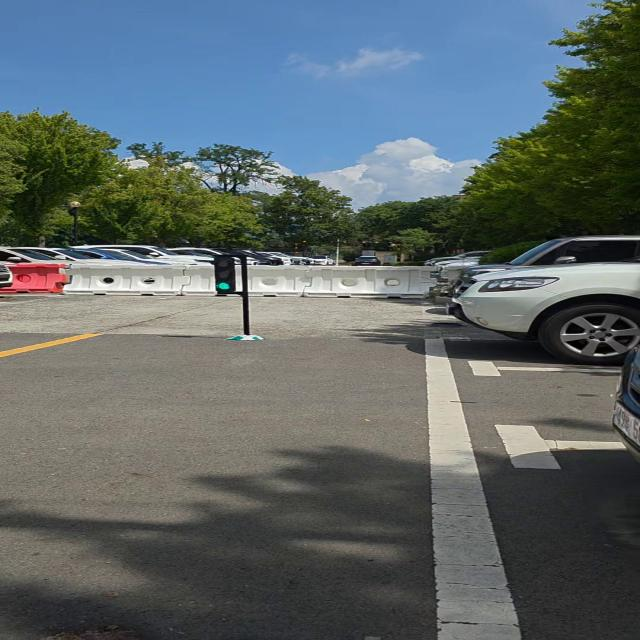green: (206, 257, 244, 296)
